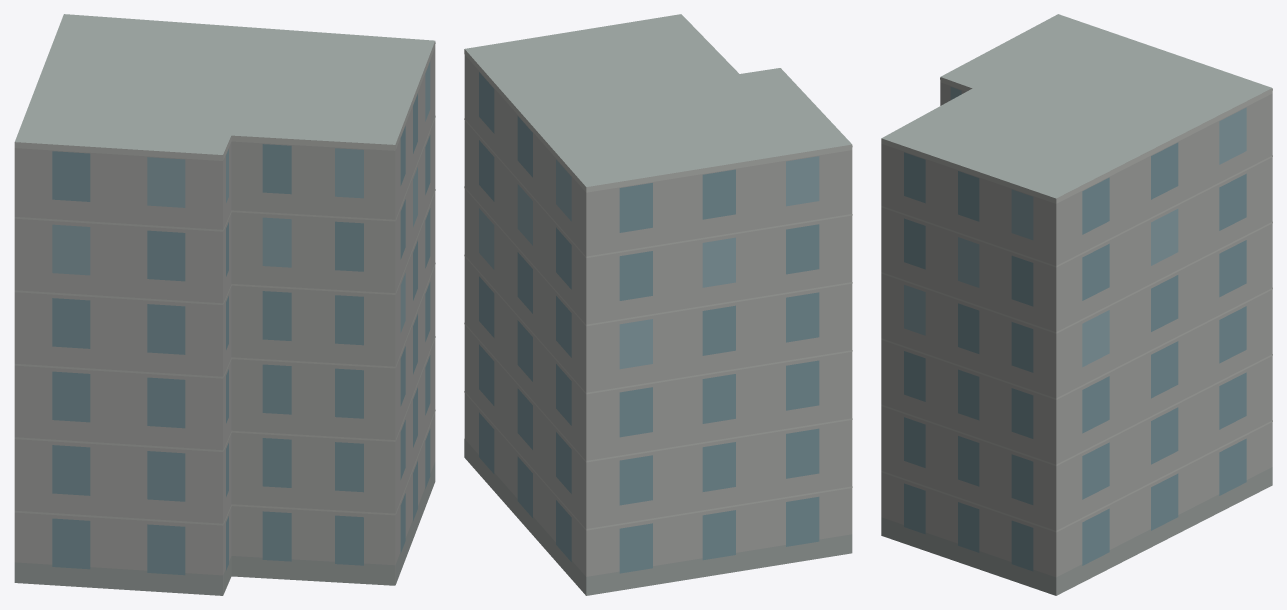
File: survey-upis-32800844.glb
3 renders of one model, left to right at view 1: azimuth 30°, elevation 25°; view 2: azimuth 150°, elevation 25°; view 3: azimuth 270°, elevation 25°, orthographic. The views are drawn at different scales.
Visible parts, largest first — view 1: survey-upis-32800844.tmp; view 2: survey-upis-32800844.tmp; view 3: survey-upis-32800844.tmp.
Boxes of the visible parts, bbox=[...] form: survey-upis-32800844.tmp: bbox=[14, 14, 435, 595]; survey-upis-32800844.tmp: bbox=[464, 14, 852, 595]; survey-upis-32800844.tmp: bbox=[881, 14, 1272, 595].
Bounding box in the file's own units: 17.95 × 18 × 16.08.
